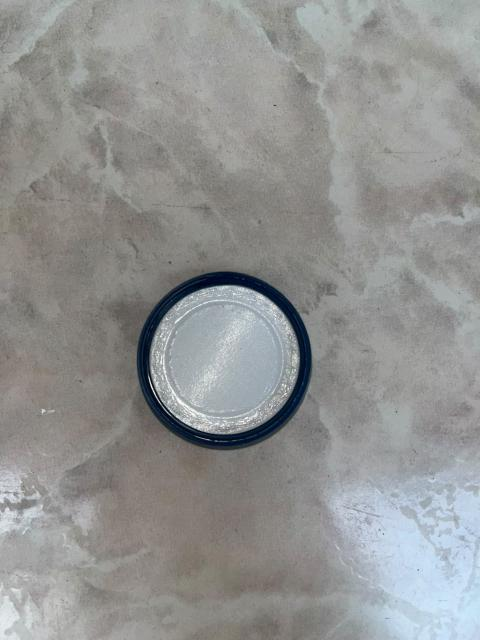HDPE: (129, 270, 351, 479)
